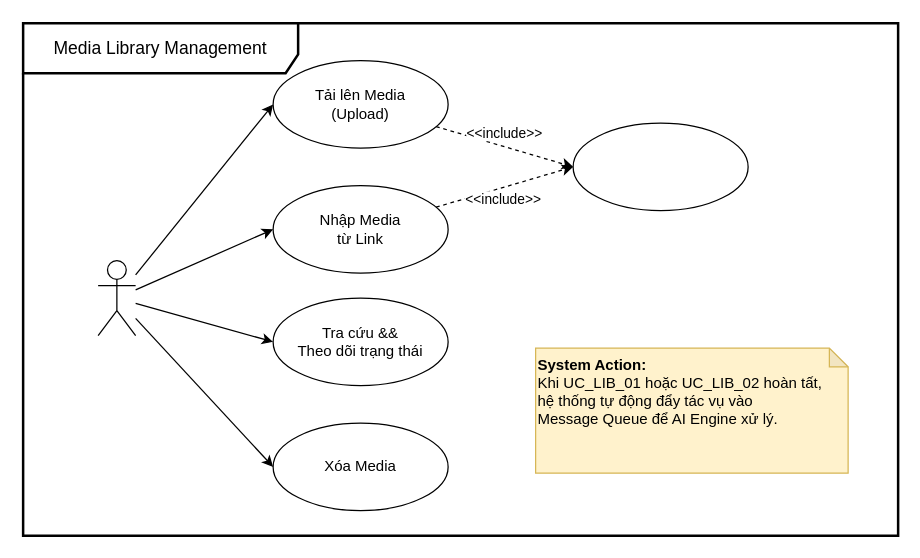
The diagram is 920 pixels wide and 558 high, and some of its shapes have lost their labels. The centre of each missing label's shape, as x and y in pixels:
"Cấu hình Ngôn ngữ xử lý" goes at pixel 660 166.
"Người dùng" goes at pixel 116 297.
